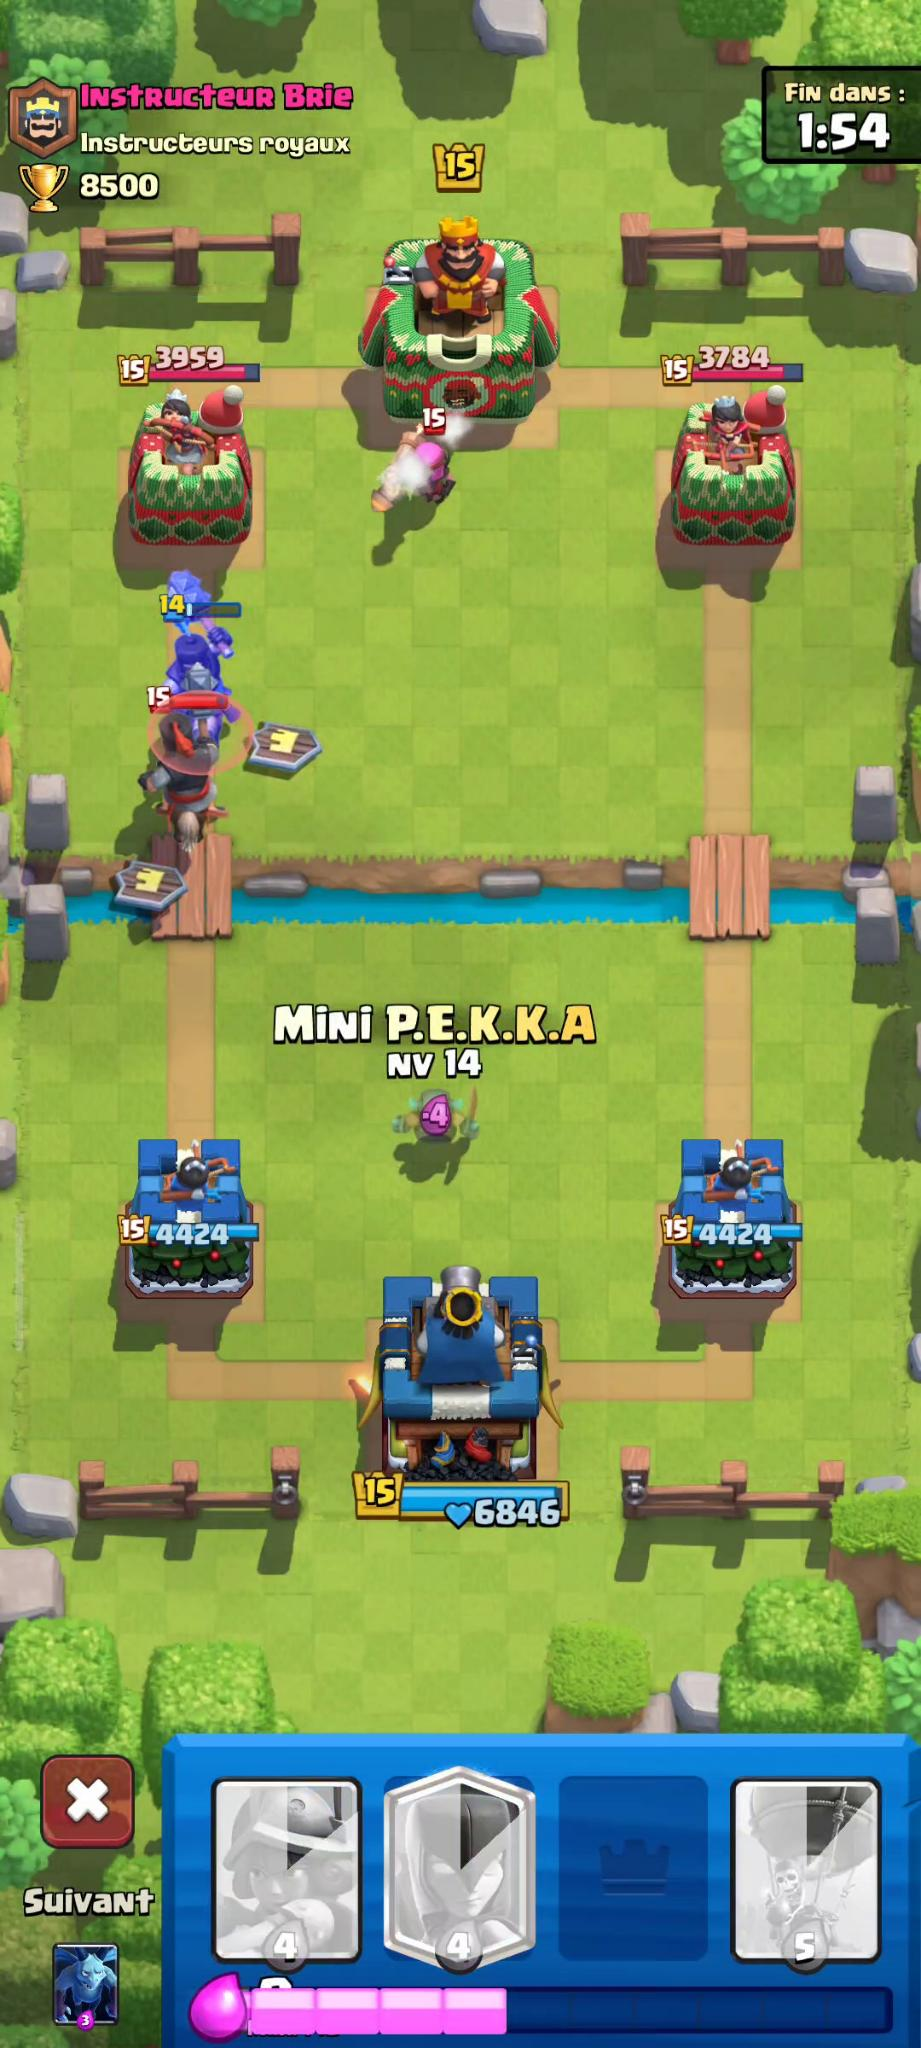bat: (489, 344, 529, 389)
